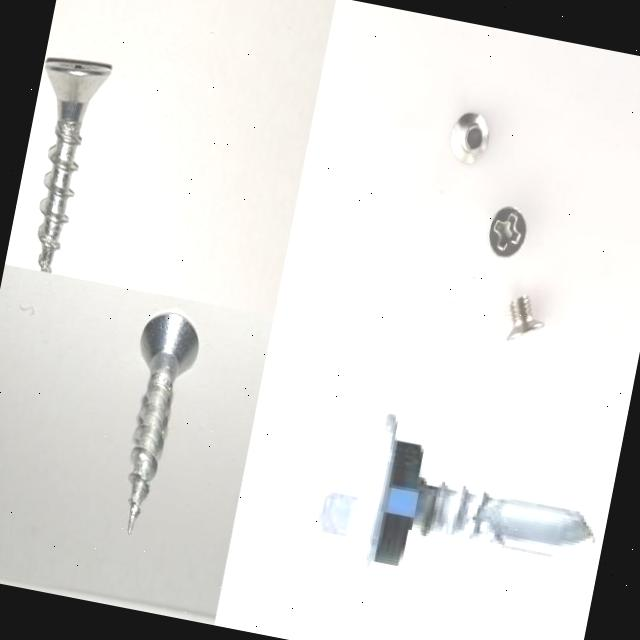Screw: (310, 413, 597, 577), (127, 314, 198, 536), (38, 60, 111, 273), (482, 199, 536, 268), (444, 104, 496, 174), (500, 287, 554, 350)
